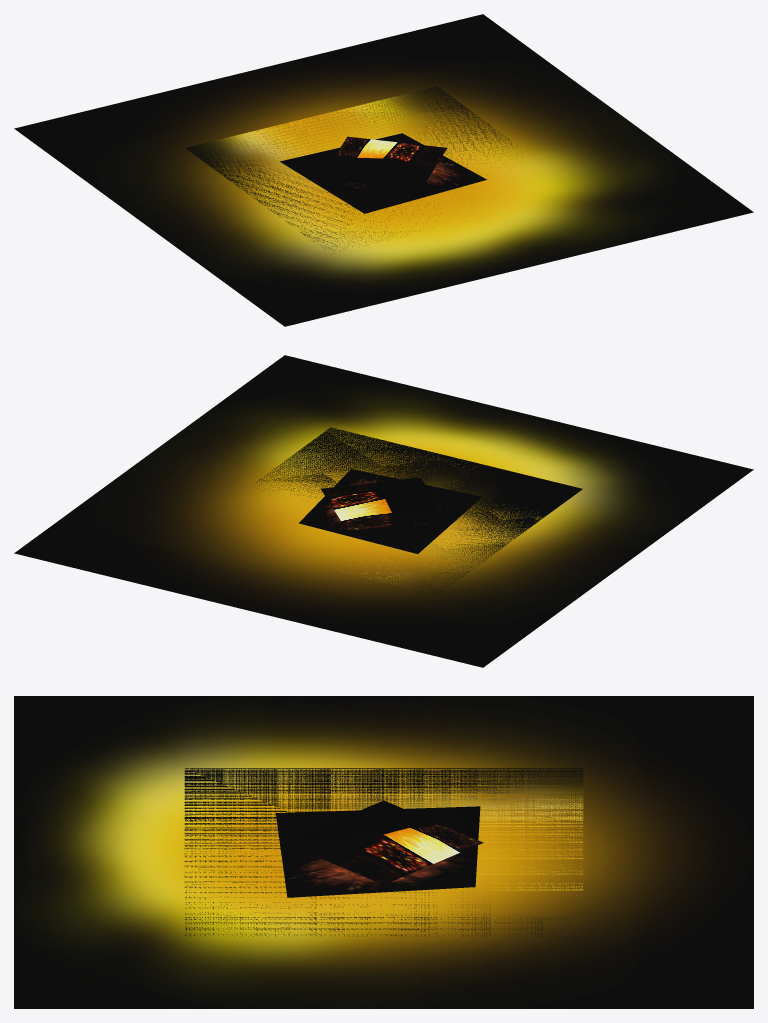
The model's file is datan_common_ExplodeBU-_9152be4d.obj.
3 renders of one model, top to bottom at view 1: azimuth 30°, elevation 25°; view 2: azimuth 150°, elevation 25°; view 3: azimuth 270°, elevation 25°, orthographic. The views are drawn at different scales.
Visible parts, largest first — view 1: datan_common_ExplodeBU-_9152be4d_mesh19, datan_common_ExplodeBU-_9152be4d_mesh08, datan_common_ExplodeBU-_9152be4d_mesh02, datan_common_ExplodeBU-_9152be4d_mesh03; view 2: datan_common_ExplodeBU-_9152be4d_mesh19, datan_common_ExplodeBU-_9152be4d_mesh08, datan_common_ExplodeBU-_9152be4d_mesh02, datan_common_ExplodeBU-_9152be4d_mesh03; view 3: datan_common_ExplodeBU-_9152be4d_mesh19, datan_common_ExplodeBU-_9152be4d_mesh08, datan_common_ExplodeBU-_9152be4d_mesh02, datan_common_ExplodeBU-_9152be4d_mesh03.
Part boxes in pixels (left/top/right/bottom): datan_common_ExplodeBU-_9152be4d_mesh19: left=14, top=14, right=753, bottom=326; datan_common_ExplodeBU-_9152be4d_mesh08: left=185, top=86, right=522, bottom=249; datan_common_ExplodeBU-_9152be4d_mesh02: left=320, top=136, right=447, bottom=190; datan_common_ExplodeBU-_9152be4d_mesh03: left=280, top=133, right=486, bottom=213; datan_common_ExplodeBU-_9152be4d_mesh19: left=14, top=355, right=753, bottom=667; datan_common_ExplodeBU-_9152be4d_mesh08: left=256, top=427, right=582, bottom=594; datan_common_ExplodeBU-_9152be4d_mesh02: left=321, top=477, right=447, bottom=530; datan_common_ExplodeBU-_9152be4d_mesh03: left=299, top=469, right=481, bottom=553; datan_common_ExplodeBU-_9152be4d_mesh19: left=14, top=696, right=753, bottom=1008; datan_common_ExplodeBU-_9152be4d_mesh08: left=184, top=768, right=583, bottom=936; datan_common_ExplodeBU-_9152be4d_mesh02: left=284, top=800, right=483, bottom=884; datan_common_ExplodeBU-_9152be4d_mesh03: left=275, top=806, right=480, bottom=897.
Size of the model in its own units: 13 by 0.4878 by 13.
1 material, 1 textured.
